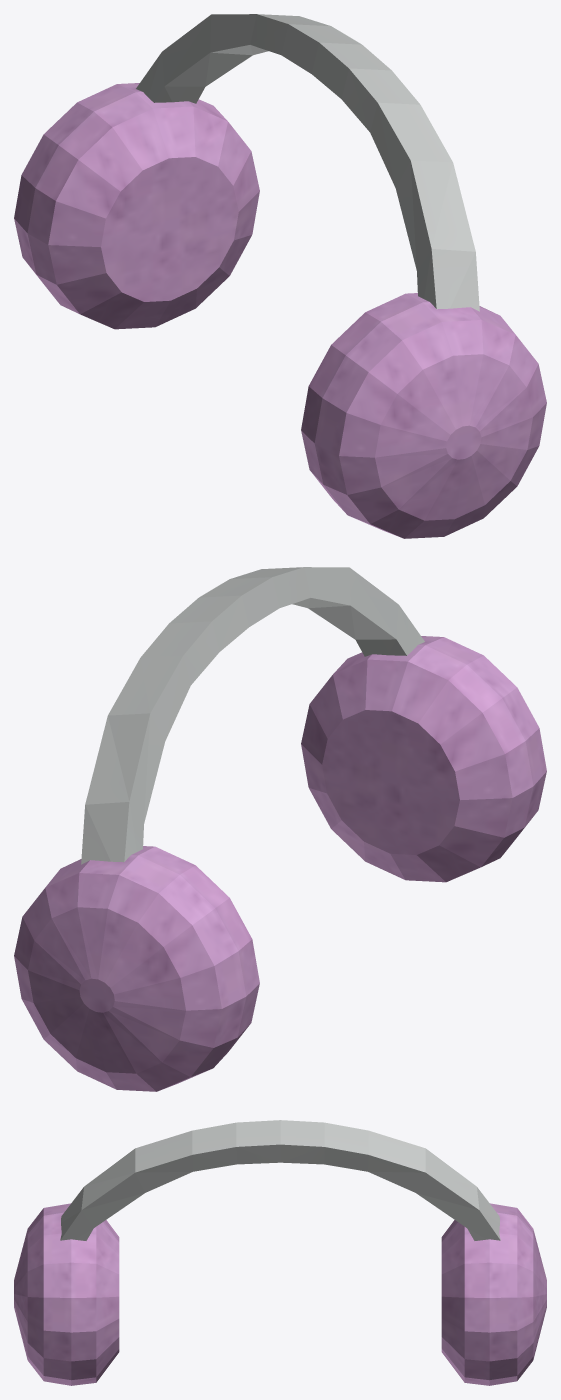
Rendered from PINK EARMUFFS.fbx.
3 views of the same model, one above another, from view 1: azimuth 30°, elevation 25°; view 2: azimuth 150°, elevation 25°; view 3: azimuth 270°, elevation 25° (orthographic). The views are drawn at different scales.
Visible parts, largest first — view 1: PINK_EARMUFFS; view 2: PINK_EARMUFFS; view 3: PINK_EARMUFFS.
Boxes of the visible parts, left/top/right/bottom form: PINK_EARMUFFS: left=14, top=14, right=546, bottom=538; PINK_EARMUFFS: left=14, top=567, right=546, bottom=1091; PINK_EARMUFFS: left=14, top=1120, right=546, bottom=1385.
Bounding box in the file's own units: 12.06 × 19.58 × 34.91.
